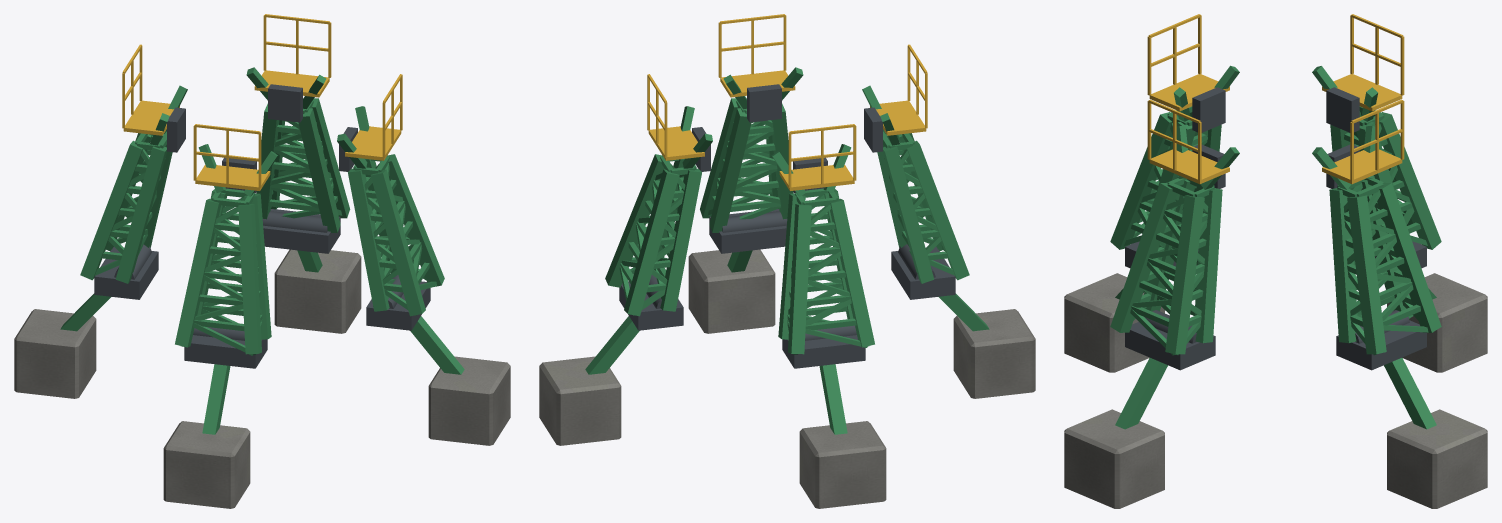
File: soyuz_launcher.glb
3 renders of one model, left to right at view 1: azimuth 30°, elevation 25°; view 2: azimuth 150°, elevation 25°; view 3: azimuth 270°, elevation 25°, orthographic. The views are drawn at different scales.
Visible parts, largest first — view 1: pose_arm_3, pose_arm_4, pose_arm_1, pose_arm_2, soyuz_launcher; view 2: pose_arm_2, pose_arm_1, pose_arm_4, pose_arm_3, soyuz_launcher; view 3: pose_arm_4, pose_arm_1, pose_arm_3, pose_arm_2, soyuz_launcher.
Boxes of the visible parts, box(x1,y1,x2,y2) form: pose_arm_3: box(163, 124, 278, 508); pose_arm_4: box(337, 74, 510, 445); pose_arm_1: box(246, 14, 361, 333); pose_arm_2: box(14, 44, 187, 398); soyuz_launcher: box(94, 209, 430, 368); pose_arm_2: box(771, 124, 886, 508); pose_arm_1: box(539, 74, 712, 445); pose_arm_4: box(688, 14, 803, 333); pose_arm_3: box(862, 44, 1035, 398); soyuz_launcher: box(619, 209, 955, 368); pose_arm_4: box(1064, 99, 1239, 508); pose_arm_1: box(1312, 99, 1487, 508); pose_arm_3: box(1064, 14, 1239, 372); pose_arm_2: box(1312, 14, 1487, 372); soyuz_launcher: box(1125, 241, 1426, 370).
Size of the model in its own units: 5.94 by 5.45 by 5.94.
Materials: 4 (1 with a texture image).
